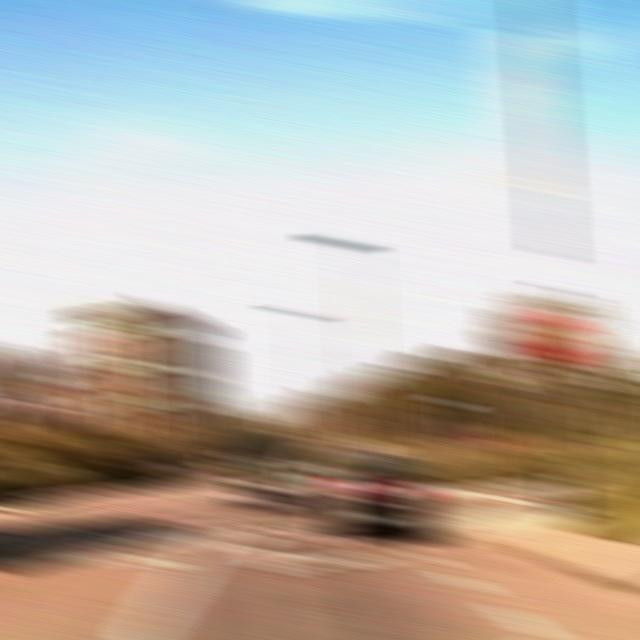stop: (527, 306, 590, 367)
